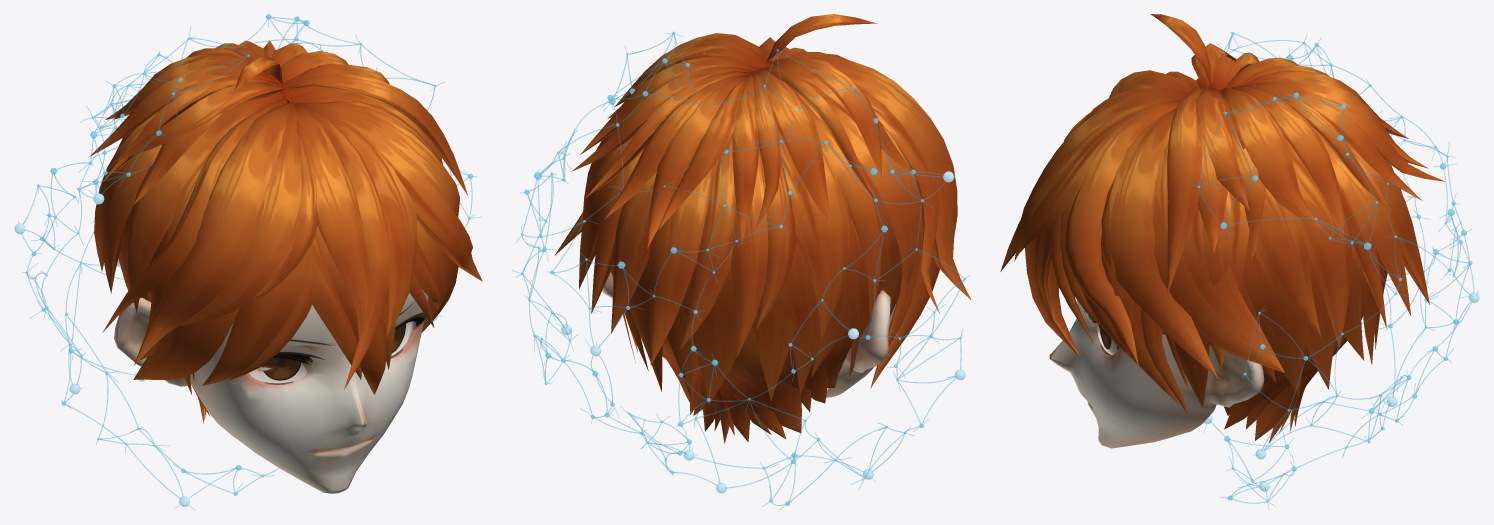
Rendered from imprint-kai.glb.
3 views of the same model, side by side, from view 1: azimuth 30°, elevation 25°; view 2: azimuth 150°, elevation 25°; view 3: azimuth 270°, elevation 25° (orthographic). The views are drawn at different scales.
Visible parts, largest first — view 1: Echo_Hair, Echo_Face, Echo_Synapses, Echo_Neurons, Echo_EyeR; view 2: Echo_Hair, Echo_Synapses, Echo_Face, Echo_Neurons, Echo_Hubs; view 3: Echo_Hair, Echo_Face, Echo_Synapses, Echo_Neurons.
Part boxes in pixels (x1=…): Echo_Hair: x1=89, y1=40, x2=482, y2=423; Echo_Face: x1=114, y1=289, x2=428, y2=493; Echo_Synapses: x1=18, y1=17, x2=479, y2=510; Echo_Neurons: x1=25, y1=14, x2=473, y2=495; Echo_EyeR: x1=257, y1=357, x2=300, y2=380; Echo_Hair: x1=554, y1=14, x2=971, y2=443; Echo_Synapses: x1=511, y1=33, x2=969, y2=510; Echo_Face: x1=602, y1=272, x2=895, y2=397; Echo_Neurons: x1=520, y1=31, x2=966, y2=505; Echo_Hubs: x1=561, y1=171, x2=965, y2=493; Echo_Hair: x1=1000, y1=14, x2=1444, y2=442; Echo_Face: x1=1049, y1=300, x2=1264, y2=448; Echo_Synapses: x1=1189, y1=32, x2=1478, y2=510; Echo_Neurons: x1=1197, y1=32, x2=1472, y2=502.
Size of the model in its own units: 2.71 by 2.74 by 2.6.
13 materials, 10 textured.
